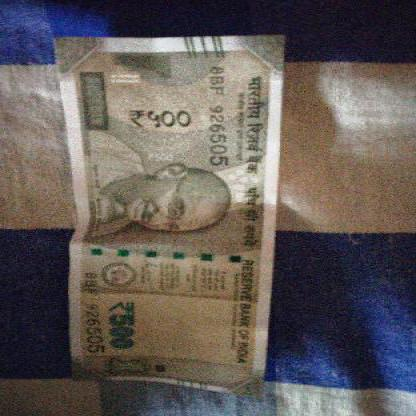New500Front: (57, 40, 272, 395)
